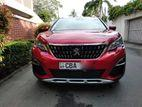car: (33, 14, 128, 87)
